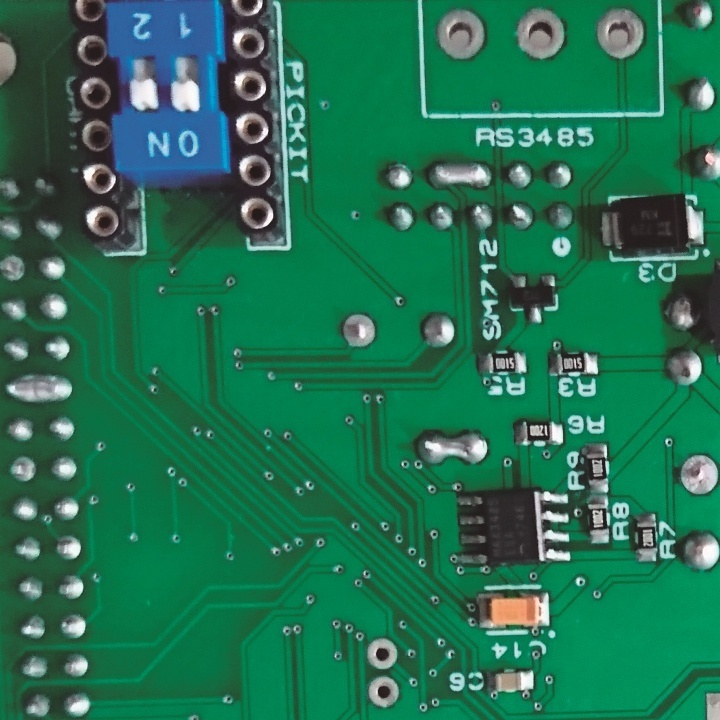F: (430, 5, 490, 66), (513, 4, 570, 63), (593, 6, 647, 60), (676, 449, 720, 500), (338, 310, 378, 354), (364, 676, 401, 712), (4, 454, 45, 485), (364, 636, 399, 672), (53, 532, 88, 566), (58, 613, 90, 643), (1, 253, 28, 283)
P: (413, 427, 495, 469), (1, 371, 75, 406), (424, 158, 493, 192)
